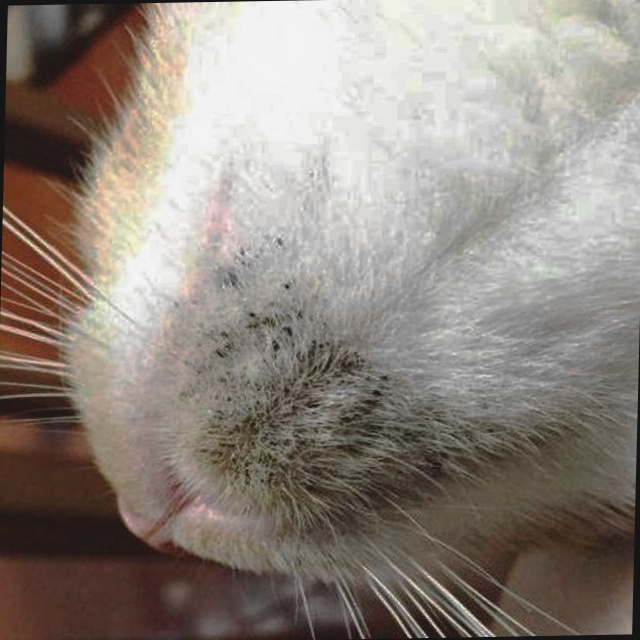acne: (176, 265, 456, 536)
